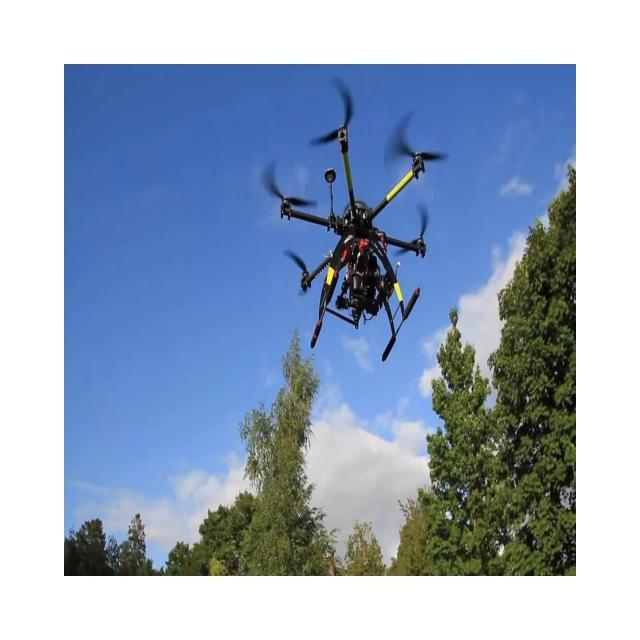drone: (260, 76, 449, 362)
